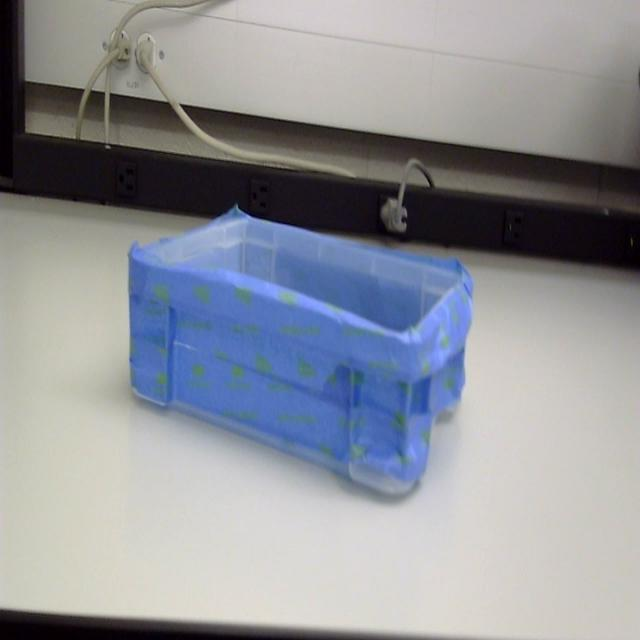bucket: (127, 209, 474, 502)
